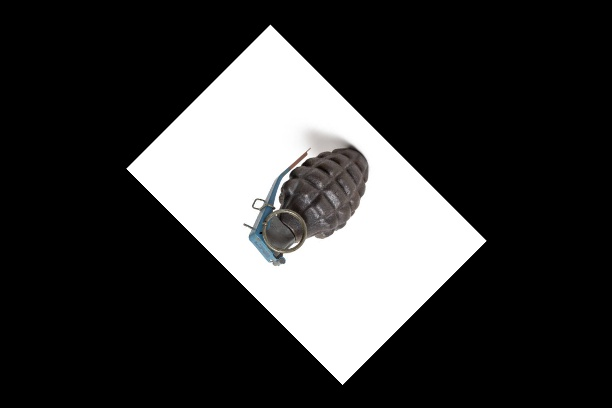e1: (243, 144, 371, 264)
